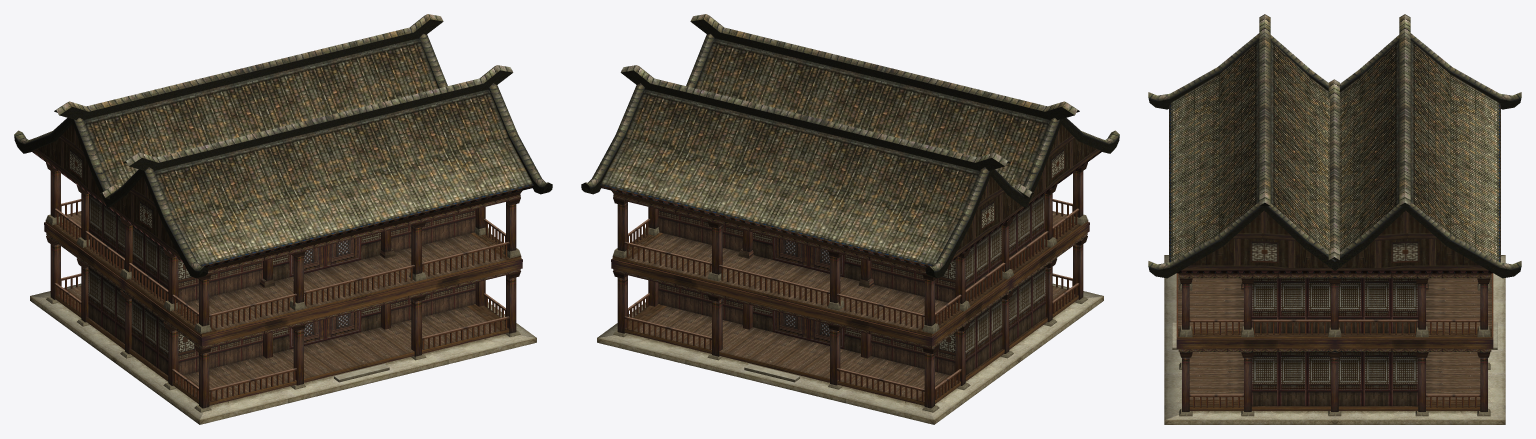
File: b1-033-guesthouse-01.fbx
3 renders of one model, left to right at view 1: azimuth 30°, elevation 25°; view 2: azimuth 150°, elevation 25°; view 3: azimuth 270°, elevation 25°, orthographic.
Visible parts, largest first — view 1: b1-033-guesthouse-01, b1-033-guesthouse-02; view 2: b1-033-guesthouse-01, b1-033-guesthouse-02; view 3: b1-033-guesthouse-01, b1-033-guesthouse-02.
Part boxes in pixels (x1,y1,x2,y2): b1-033-guesthouse-01: (14, 14, 552, 412); b1-033-guesthouse-02: (30, 166, 536, 424); b1-033-guesthouse-01: (581, 14, 1119, 412); b1-033-guesthouse-02: (597, 166, 1103, 424); b1-033-guesthouse-01: (1148, 14, 1521, 416); b1-033-guesthouse-02: (1164, 255, 1505, 424).
Size of the model in its own units: 21.33 by 12.64 by 17.86.
